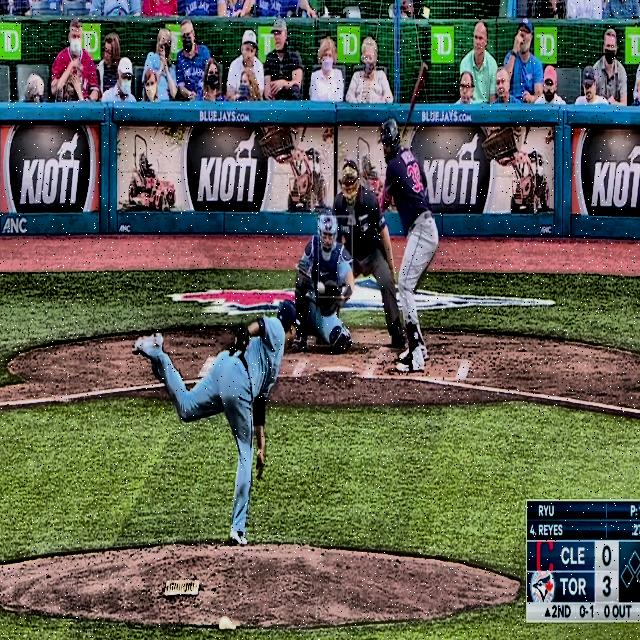baseball: (316, 280, 326, 296)
